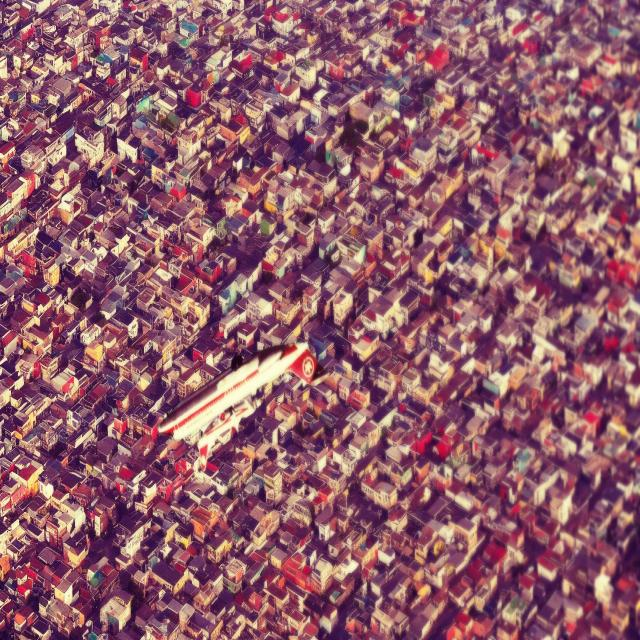airplane: (156, 338, 317, 472)
